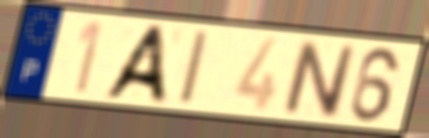1: (74, 18, 106, 97)
4: (231, 34, 282, 114)
6: (347, 45, 403, 125)
A: (98, 24, 171, 106)
I: (177, 27, 212, 107)
N: (281, 38, 357, 121)
